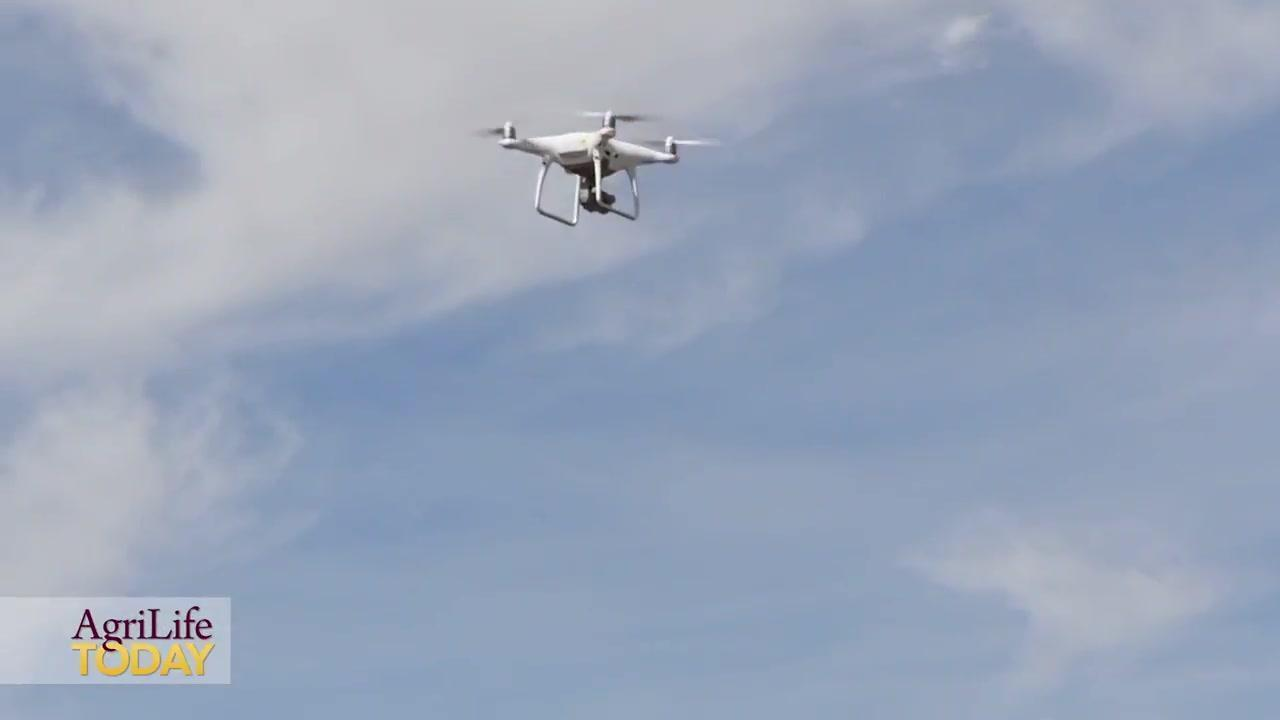UAV: (475, 111, 721, 228)
